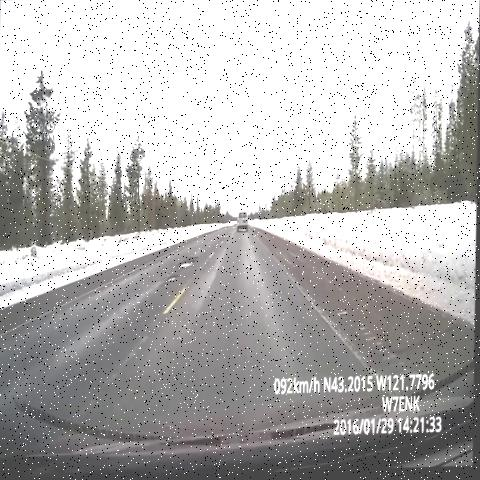pothole: (175, 258, 201, 274), (161, 272, 182, 290)
